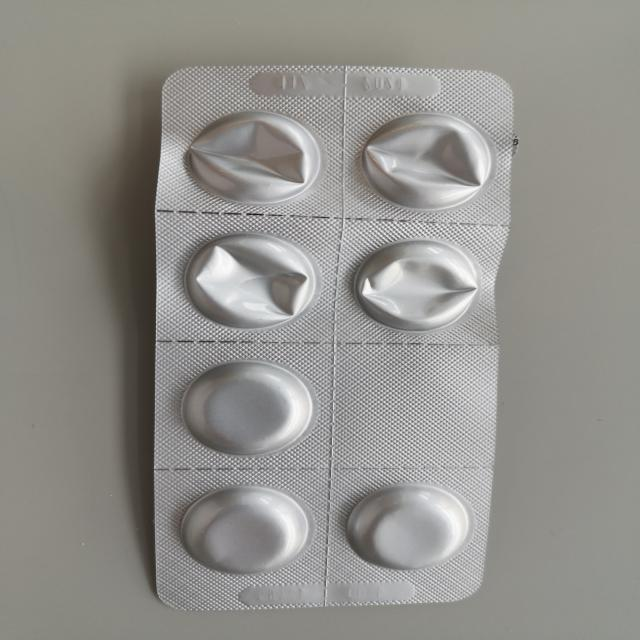Empty: (177, 227, 321, 333), (180, 104, 324, 209), (356, 106, 498, 212), (344, 235, 486, 336)
Pill: (178, 359, 320, 458), (171, 483, 316, 577), (341, 480, 474, 575)
